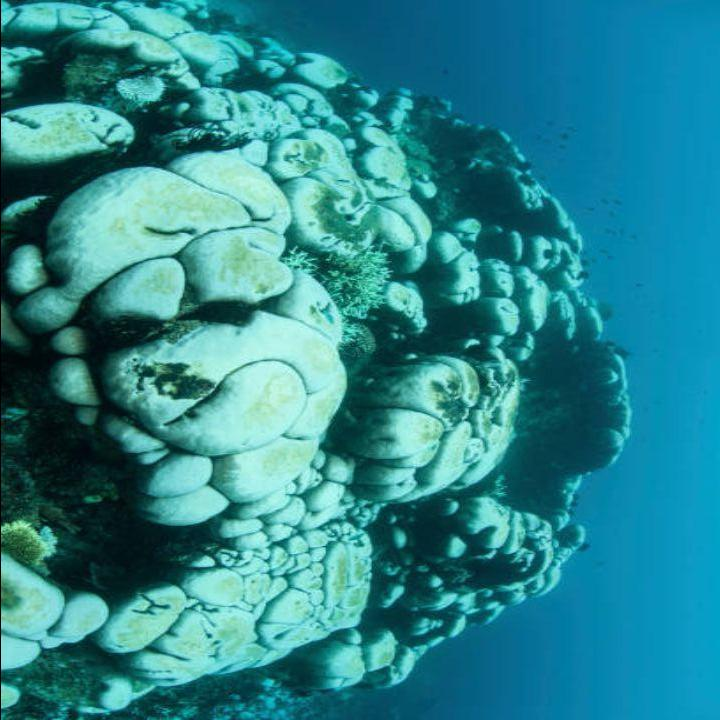Bleached disease: (11, 38, 624, 689)
